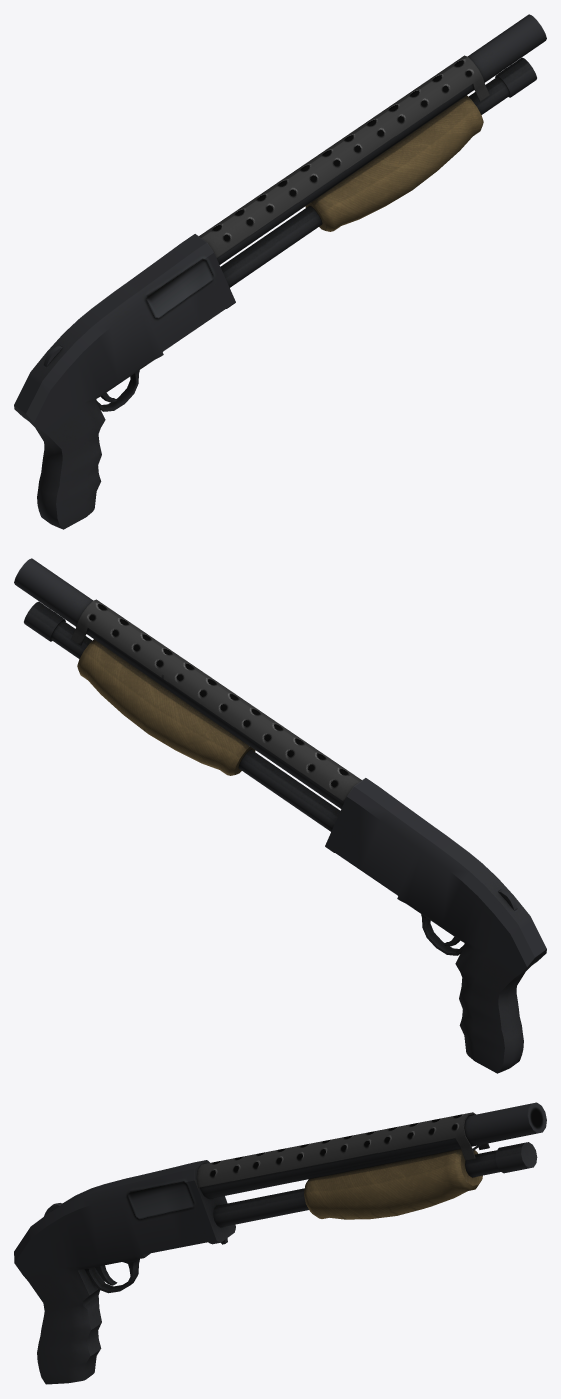
File: shotgun_000011.obj
3 views of the same model, one above another, from view 1: azimuth 30°, elevation 25°; view 2: azimuth 150°, elevation 25°; view 3: azimuth 330°, elevation 25° (orthographic).
Visible parts, largest first — view 1: mesh_Cube.001; view 2: mesh_Cube.001; view 3: mesh_Cube.001.
Boxes of the visible parts, <box> form: mesh_Cube.001: <box>14,14,546,529</box>; mesh_Cube.001: <box>14,558,546,1073</box>; mesh_Cube.001: <box>14,1102,546,1384</box>.
Bounding box in the file's own units: 1.67 × 1.2 × 0.1708.
Materials: 1 (1 with a texture image).
